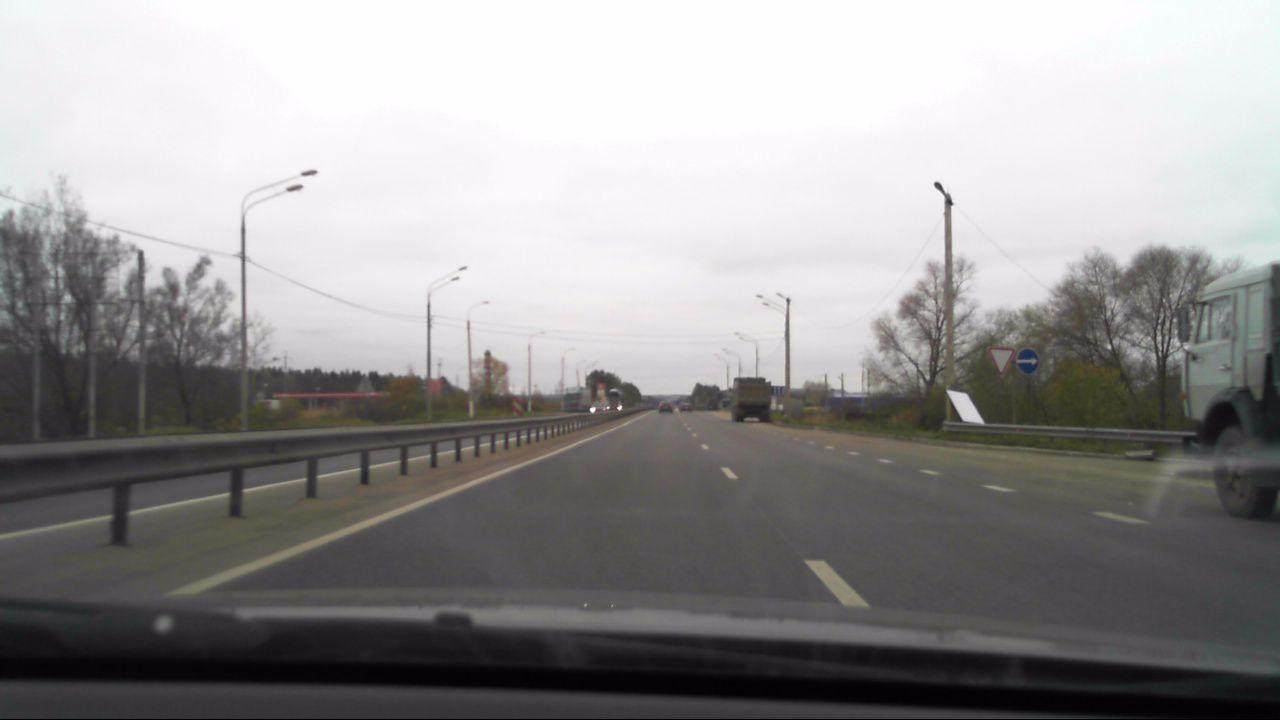2_4: (988, 348, 1012, 374)
4_2_1: (1017, 347, 1041, 372)
